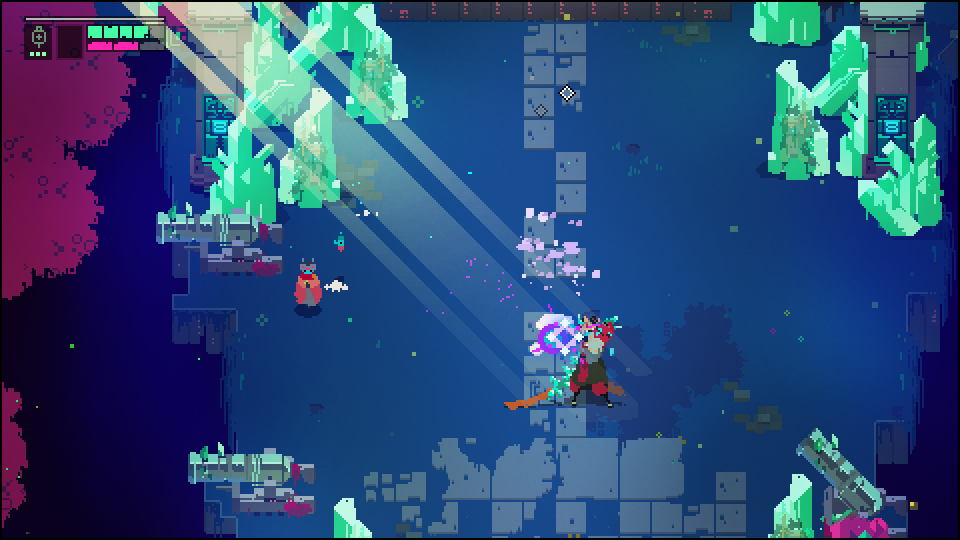hanged_man: (541, 312, 611, 412)
player: (293, 257, 324, 311)
